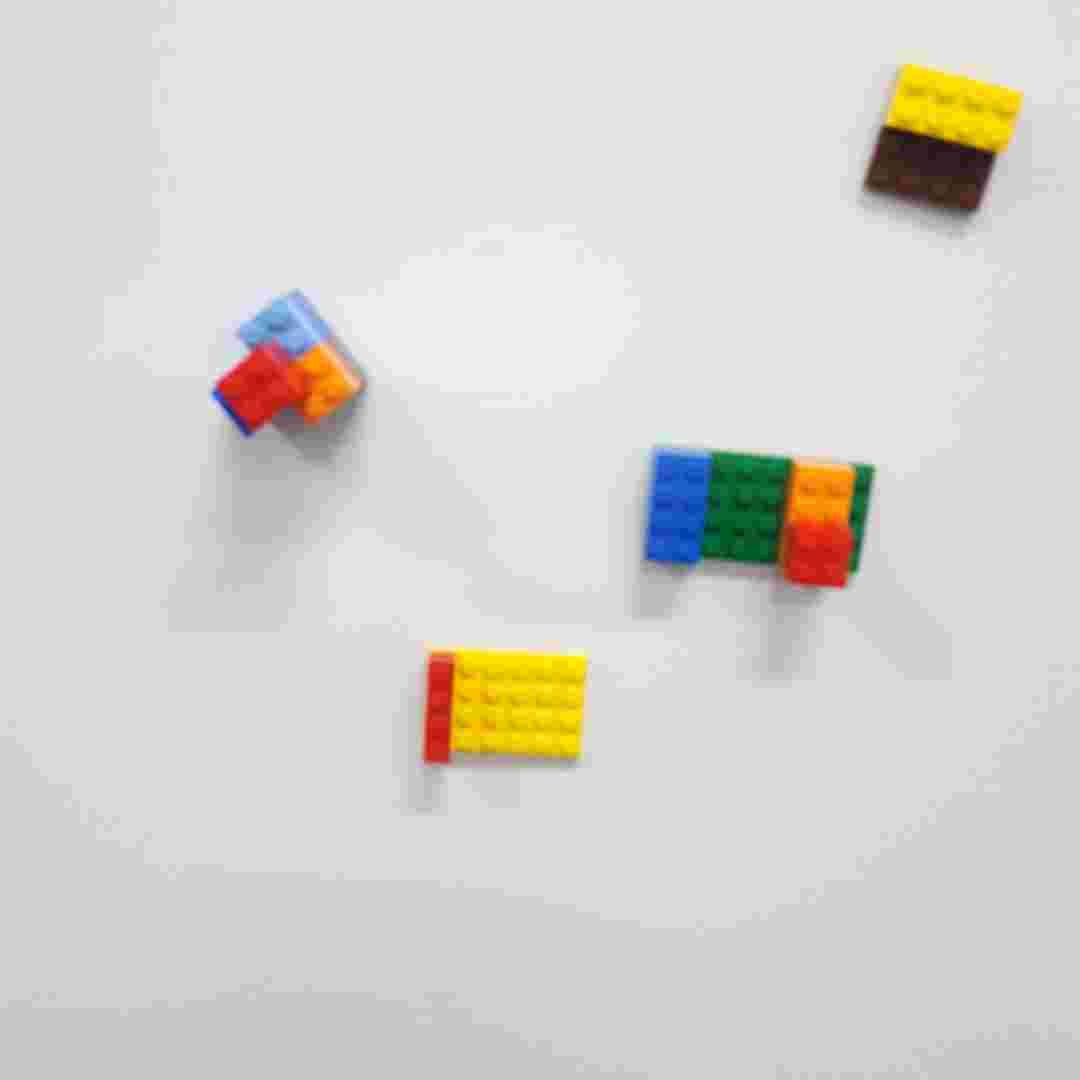LEGO: (642, 443, 882, 588), (201, 276, 372, 440), (855, 62, 1028, 219), (413, 646, 591, 768)
